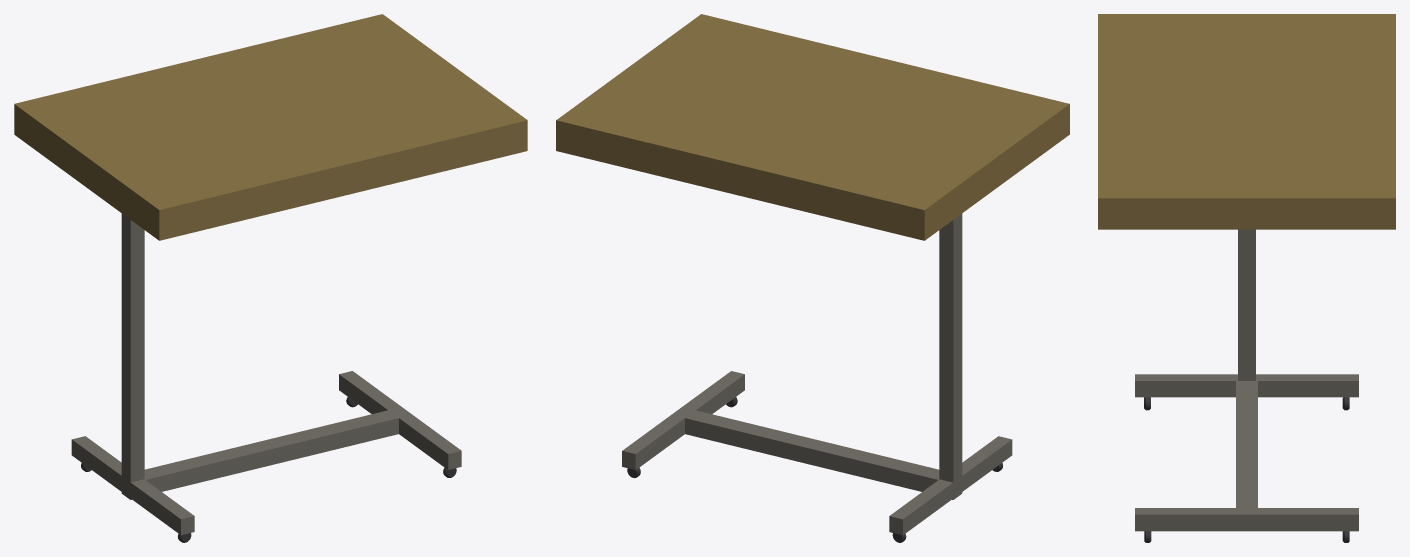
File: Hospital_Table.fbx
The picture shows the model from 3 angles, left to right: view 1: azimuth 30°, elevation 25°; view 2: azimuth 150°, elevation 25°; view 3: azimuth 270°, elevation 25°; orthographic projection. The views are drawn at different scales.
Visible parts, largest first — view 1: Hospital_Table; view 2: Hospital_Table; view 3: Hospital_Table.
Part boxes in pixels (<box>): Hospital_Table: <box>14,14,527,542</box>; Hospital_Table: <box>556,14,1069,542</box>; Hospital_Table: <box>1098,14,1395,542</box>.
Size of the model in its own units: 87.88 by 82.43 by 60.
3 materials, 2 textured.
